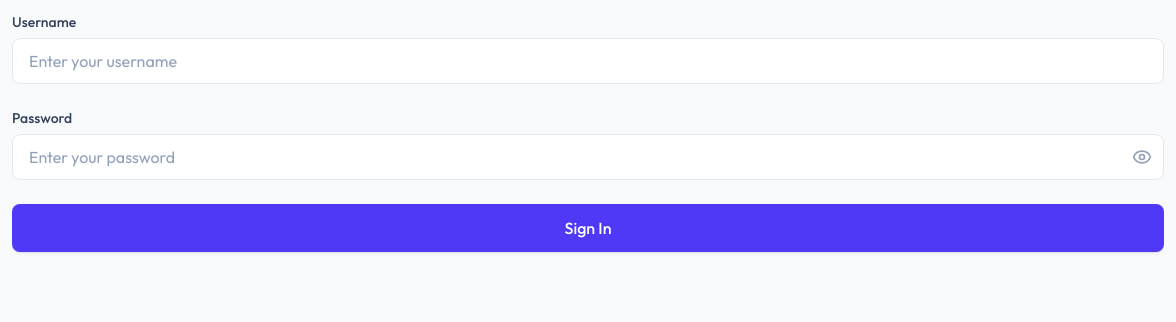
it: Auth Flow Integration › should show validation errors for empty fields
Click the button "Sign In".
click(588, 228)  # box [12, 204, 1164, 252]
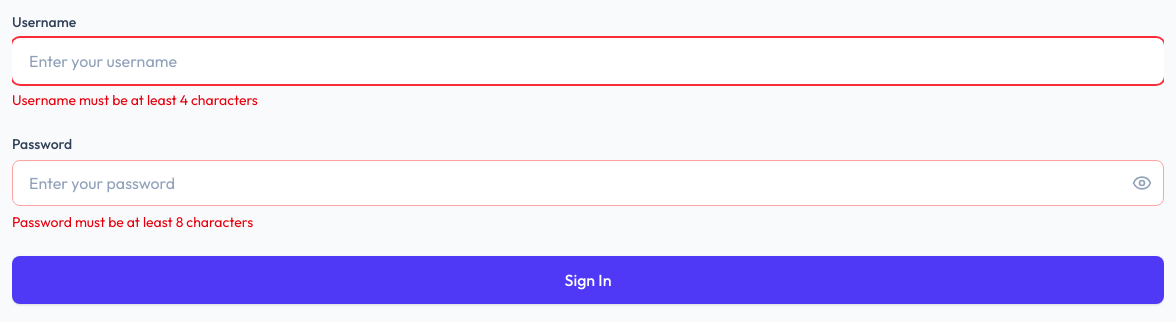
Result: the text "Username must be at least 4 characters" is shown at [12, 91, 258, 109]
